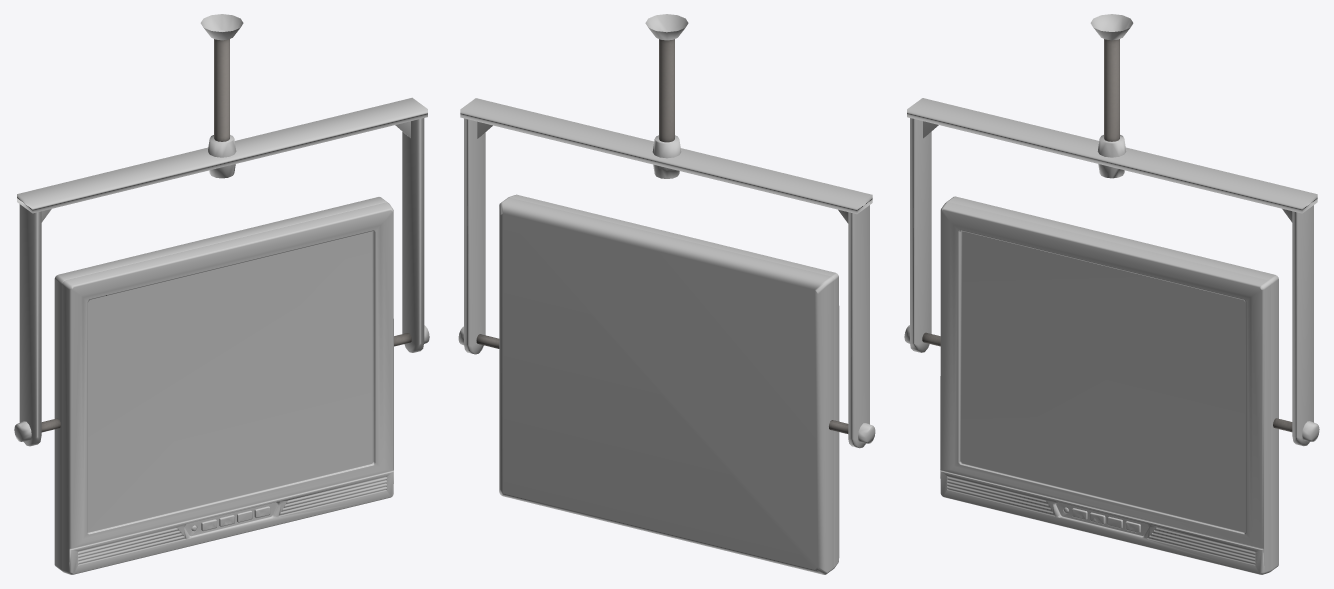
The model's file is monitor_ueberwachungskamera.fbx.
3 renders of one model, left to right at view 1: azimuth 30°, elevation 25°; view 2: azimuth 150°, elevation 25°; view 3: azimuth 330°, elevation 25°, orthographic.
Visible parts, largest first — view 1: Mesh, Mesh_ncl1_2; view 2: Mesh, Mesh_ncl1_2; view 3: Mesh, Mesh_ncl1_2.
Boxes of the visible parts, x1,y1,x2,y2 form: Mesh: (54,197,393,574); Mesh_ncl1_2: (14,14,429,446); Mesh: (499,194,839,574); Mesh_ncl1_2: (458,14,875,448); Mesh: (940,196,1278,574); Mesh_ncl1_2: (904,14,1319,446).
Size of the model in its own units: 55.36 by 66.12 by 5.08.
